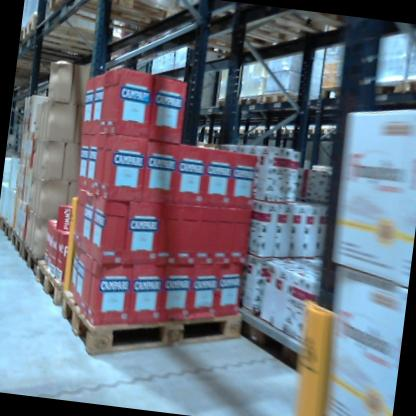pallet: (55, 260, 256, 375), (21, 1, 161, 62), (224, 3, 358, 53), (176, 7, 268, 66), (43, 0, 172, 42), (28, 251, 86, 315), (19, 239, 47, 283), (361, 72, 405, 99), (261, 86, 301, 113), (316, 77, 353, 106), (9, 225, 32, 262), (231, 93, 263, 110), (310, 122, 339, 138), (1, 214, 15, 244), (260, 122, 283, 136), (402, 72, 416, 92), (280, 120, 296, 136), (250, 124, 266, 137), (0, 207, 5, 234)
